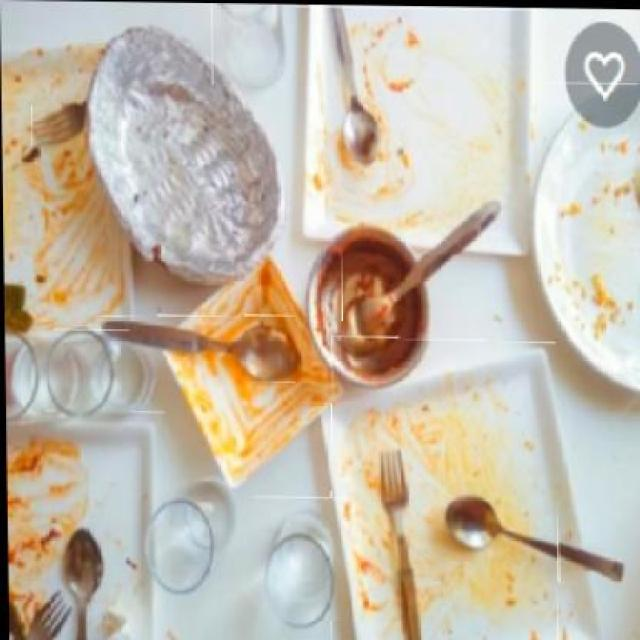Glass: (252, 496, 352, 622), (137, 491, 233, 593), (54, 328, 132, 429), (211, 3, 287, 87), (5, 331, 46, 435)
Plate: (326, 336, 560, 638), (294, 5, 549, 255), (4, 410, 168, 638), (531, 80, 638, 397)
